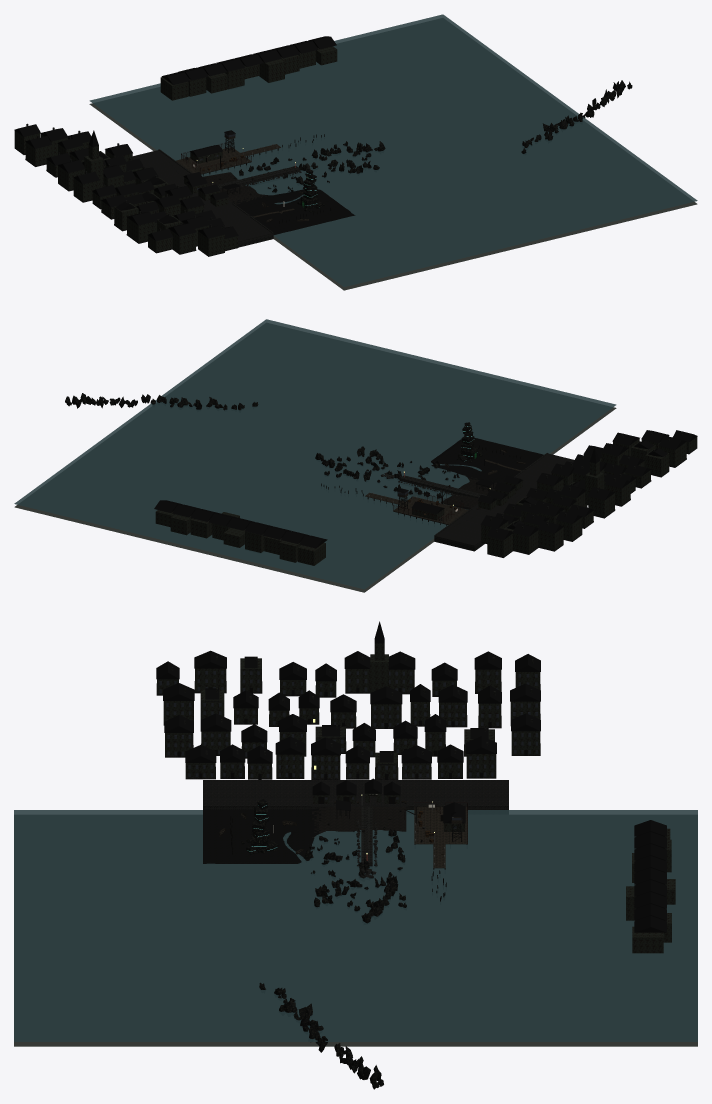
The model's file is innsmouth-waterfront.glb.
3 views of the same model, one above another, from view 1: azimuth 30°, elevation 25°; view 2: azimuth 150°, elevation 25°; view 3: azimuth 270°, elevation 25° (orthographic). The views are drawn at different scales.
Parts seen in each view (by area): view 1: Water, Town, Ground, Reef, Street, Seabed, Wharf, Fish_Sheds, Breakwater, Pylon; view 2: Water, Town, Ground, Reef, Street, Seabed, Wharf, Breakwater, Fish_Sheds, Fence, Pylon, Sea_Wall; view 3: Water, Town, Ground, Street, Reef, Seabed, Wharf, Fish_Sheds, Pylon, Breakwater, Sea_Wall.
Part boxes in pixels (x1,y1,x2,y2): Water: (89,14,697,286); Town: (14,36,337,256); Ground: (202,172,355,234); Reef: (239,80,632,192); Street: (132,150,272,241); Seabed: (89,103,697,290); Wharf: (176,144,280,173); Fish_Sheds: (183,172,228,206); Breakwater: (217,166,301,189); Pylon: (297,169,325,212); Water: (14,319,616,589); Town: (154,430,697,565); Ground: (431,438,543,507); Reef: (65,393,459,498); Street: (435,453,574,545); Seabed: (14,407,616,592); Wharf: (365,492,468,524); Breakwater: (398,475,486,497); Fish_Sheds: (478,475,522,510); Fence: (393,491,463,522); Pylon: (456,422,482,462); Sea_Wall: (434,453,548,551); Water: (14,810,697,1041); Town: (156,621,675,953); Ground: (203,806,406,863); Street: (203,780,508,806); Reef: (259,828,406,1089); Seabed: (14,1042,697,1046); Wharf: (414,806,467,868); Fish_Sheds: (312,780,400,803); Pylon: (241,799,278,855); Breakwater: (356,806,377,866); Sea_Wall: (203,805,508,809).
Size of what is drawn, in the model's own units: 276 by 42.53 by 217.
Materials: 29 (15 with a texture image).
